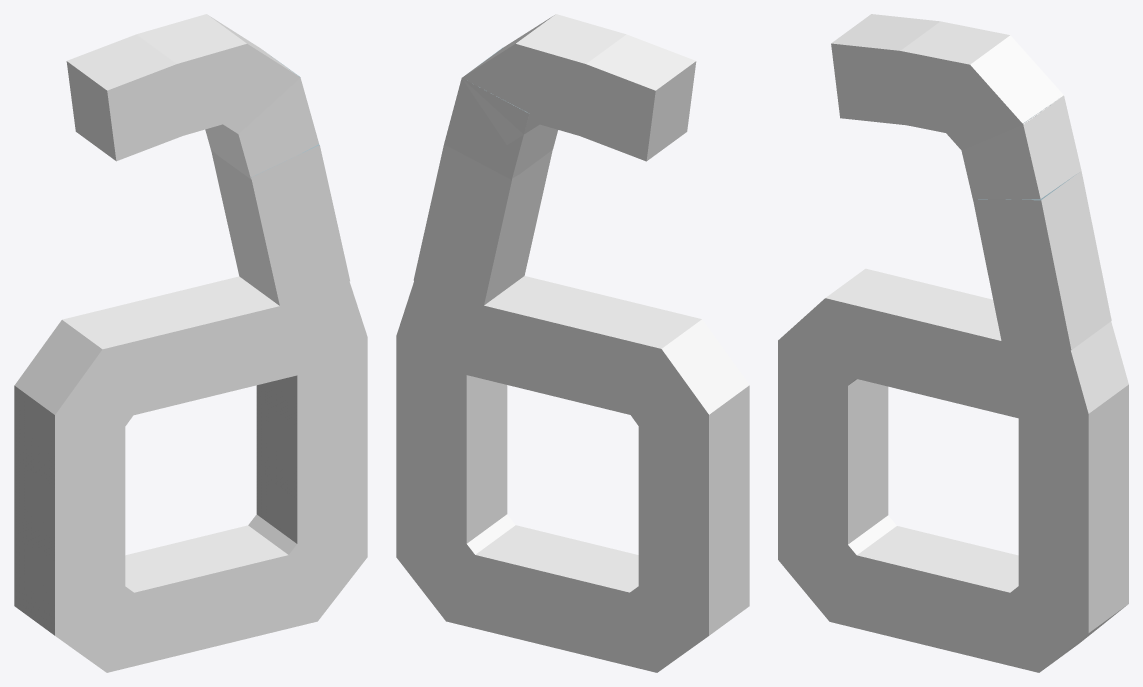
File: six.gltf
3 views of the same model, side by side, from view 1: azimuth 30°, elevation 25°; view 2: azimuth 150°, elevation 25°; view 3: azimuth 330°, elevation 25° (orthographic).
Visible parts, largest first — view 1: cube (×22); view 2: cube (×22); view 3: cube (×22).
Boxes of the visible parts, left/top/right/bottom form: cube (×22): left=14, top=14, right=367, bottom=672; cube (×22): left=396, top=14, right=749, bottom=672; cube (×22): left=778, top=14, right=1128, bottom=672.
Bounding box in the file's own units: 0.5555 × 1.01 × 0.1274.
Materials: 1 (1 with a texture image).
